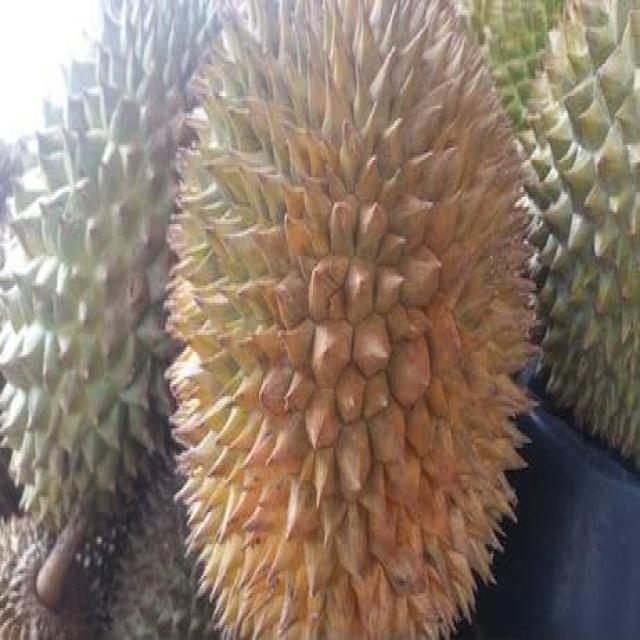mature: (159, 0, 541, 640)
